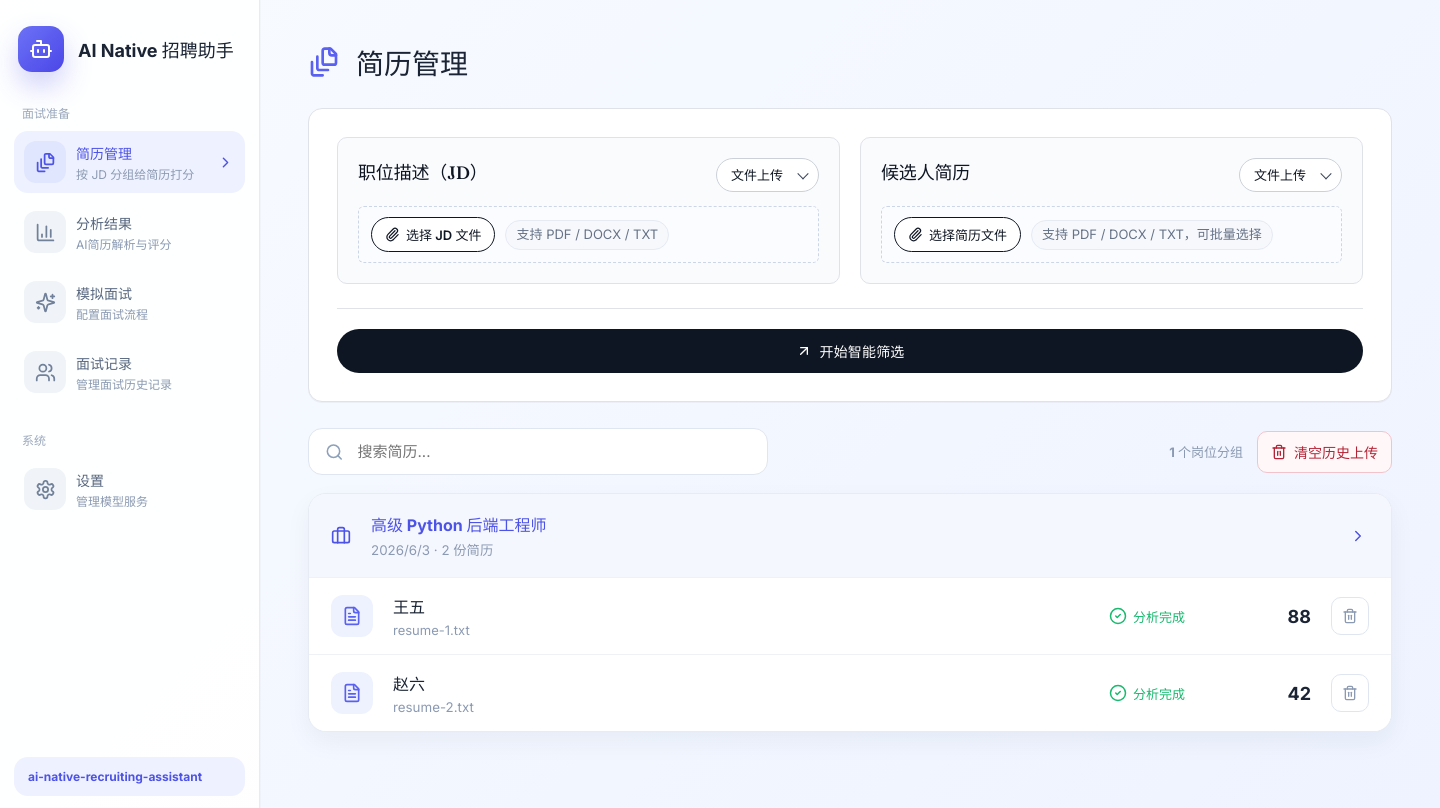
Test: App › loads persisted resume groups and interview records from the backend
Expected: the text "高级 Python 后端工程师" is shown, [371,515,546,535]
Expected: the text "王五" is shown, [393,597,425,617]
Click the button "分析结果 AI简历解析与评分".
click(130, 232)  # box [14,201,245,263]
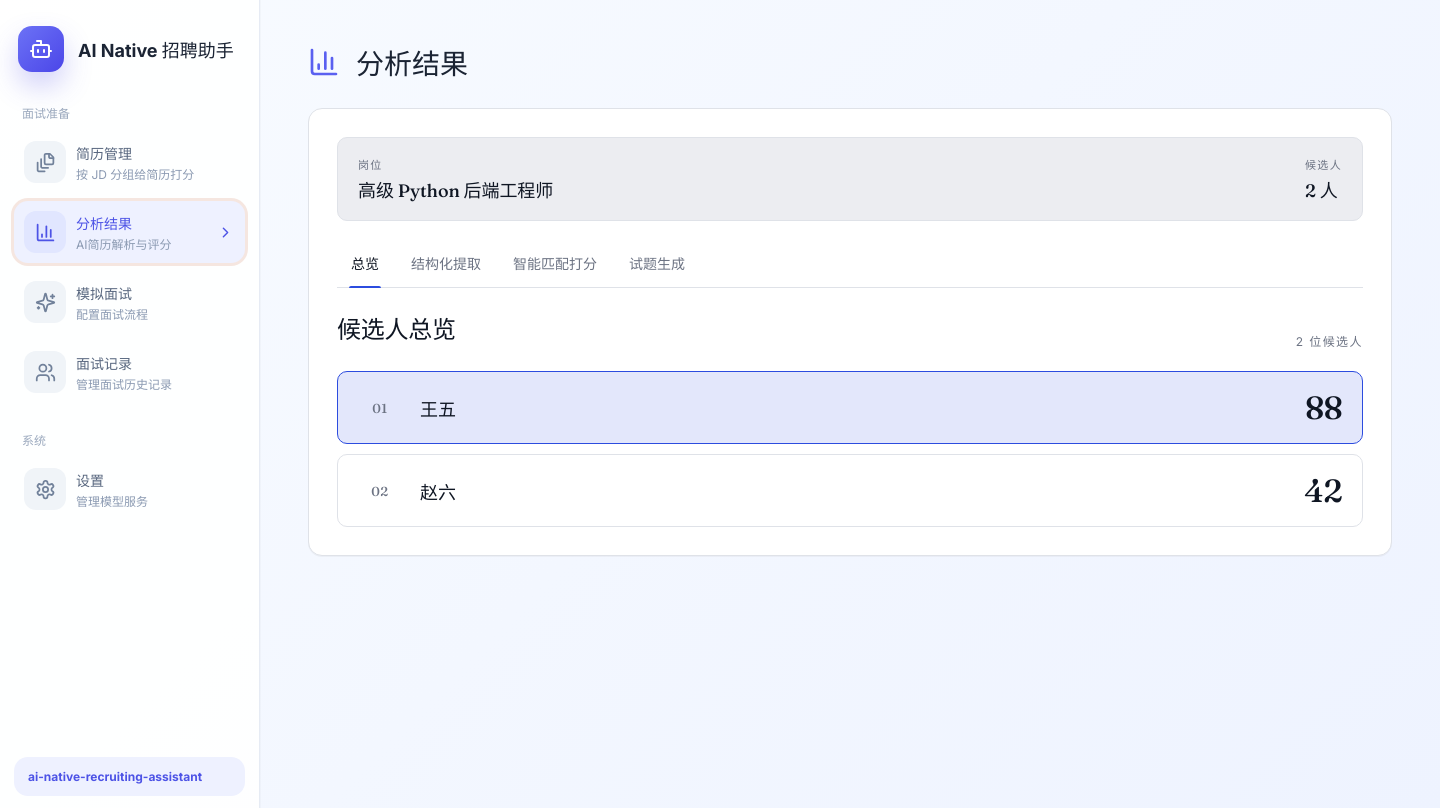
Click the button "结构化提取".
click(446, 265)  # box [397,243,495,287]
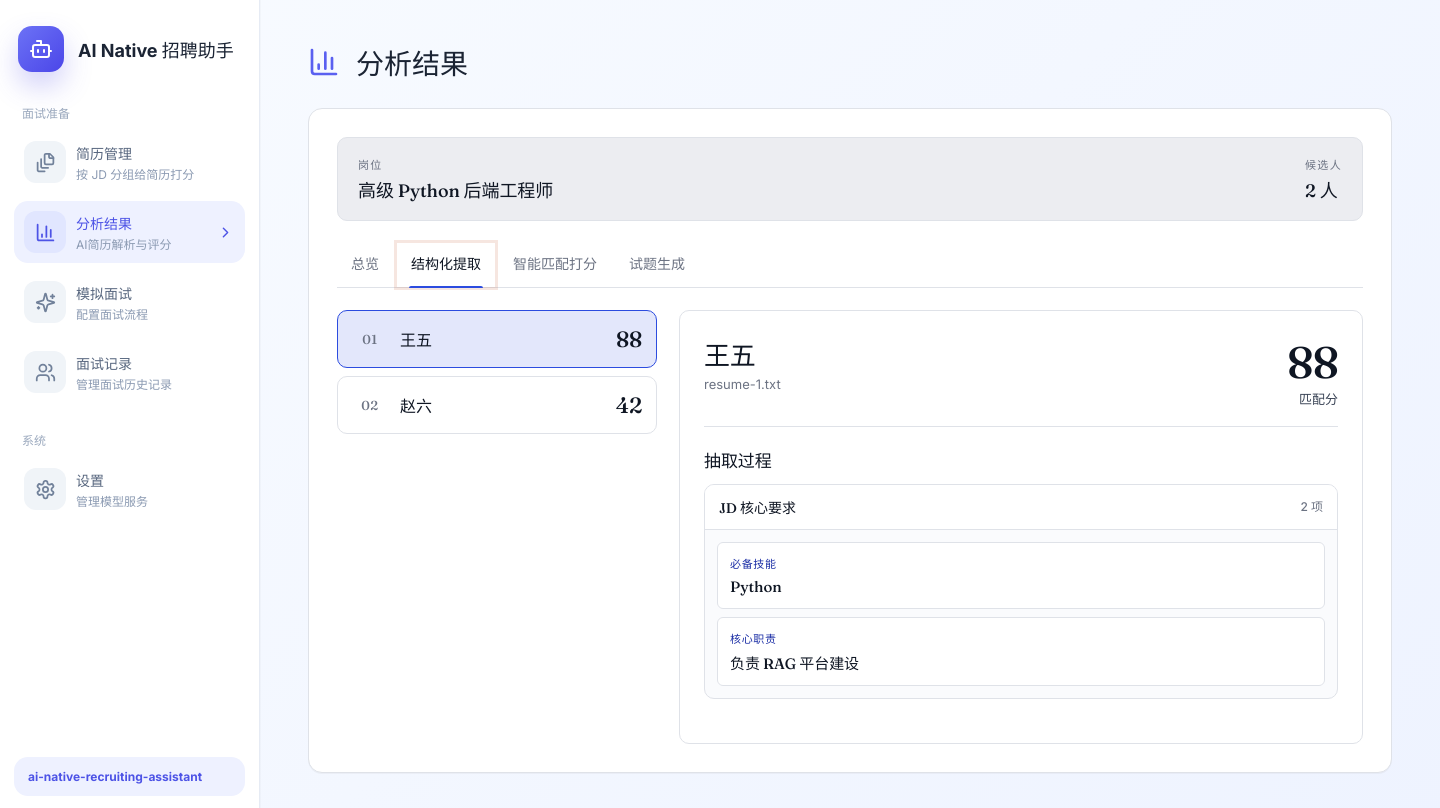
Click the button "面试记录 管理面试历史记录".
click(130, 372)  # box [14,341,245,403]
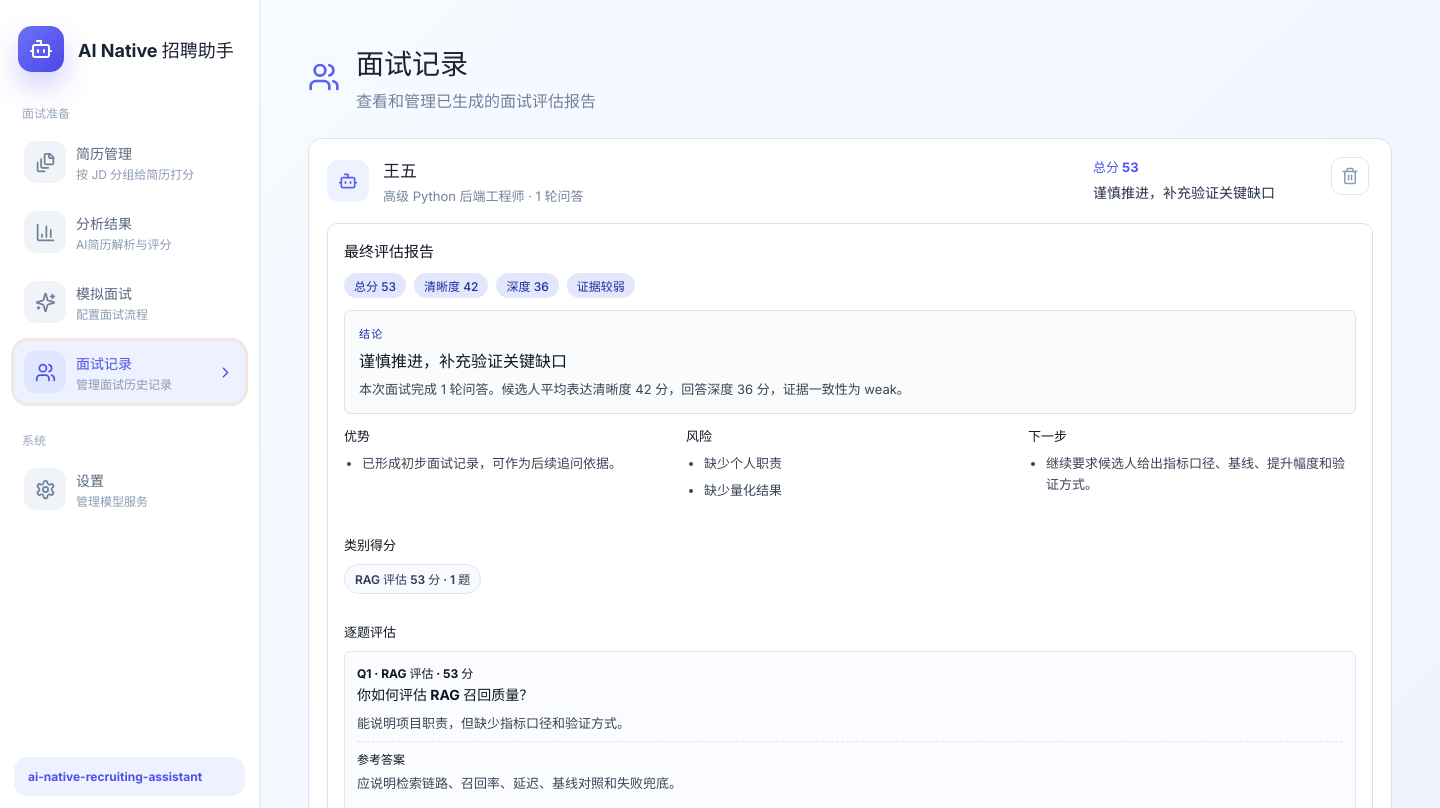
Expected: the text "总分 53" in the row of "王五" is shown, [1093,159,1139,175]
Expected: the text "谨慎推进，补充验证关键缺口" in the row of "高级 Python 后端工程师" is shown, [1093,184,1275,201]
